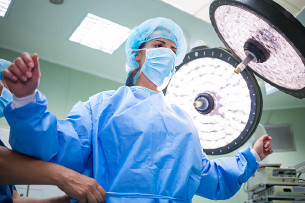face_mask: (141, 40, 176, 87)
